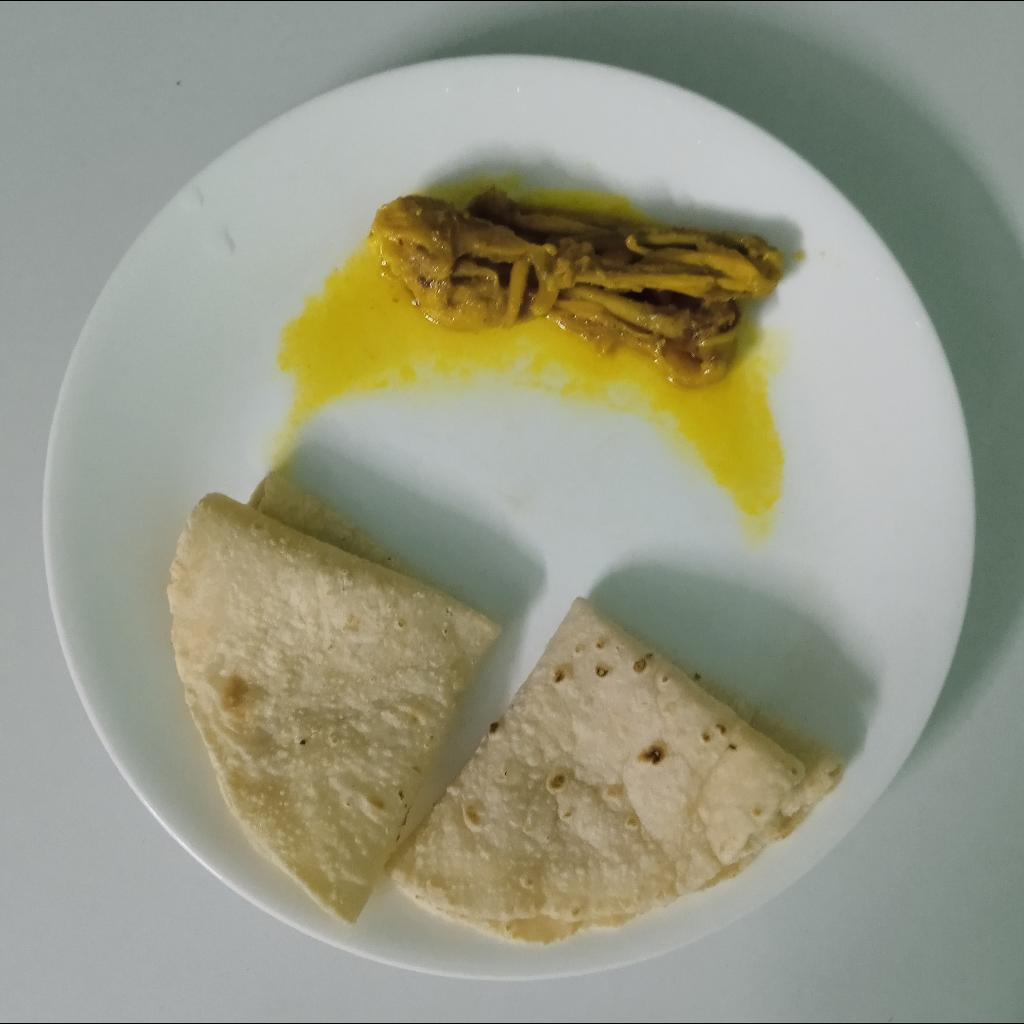chicken: (364, 181, 788, 383)
ruti: (385, 596, 846, 950), (164, 471, 503, 934)
